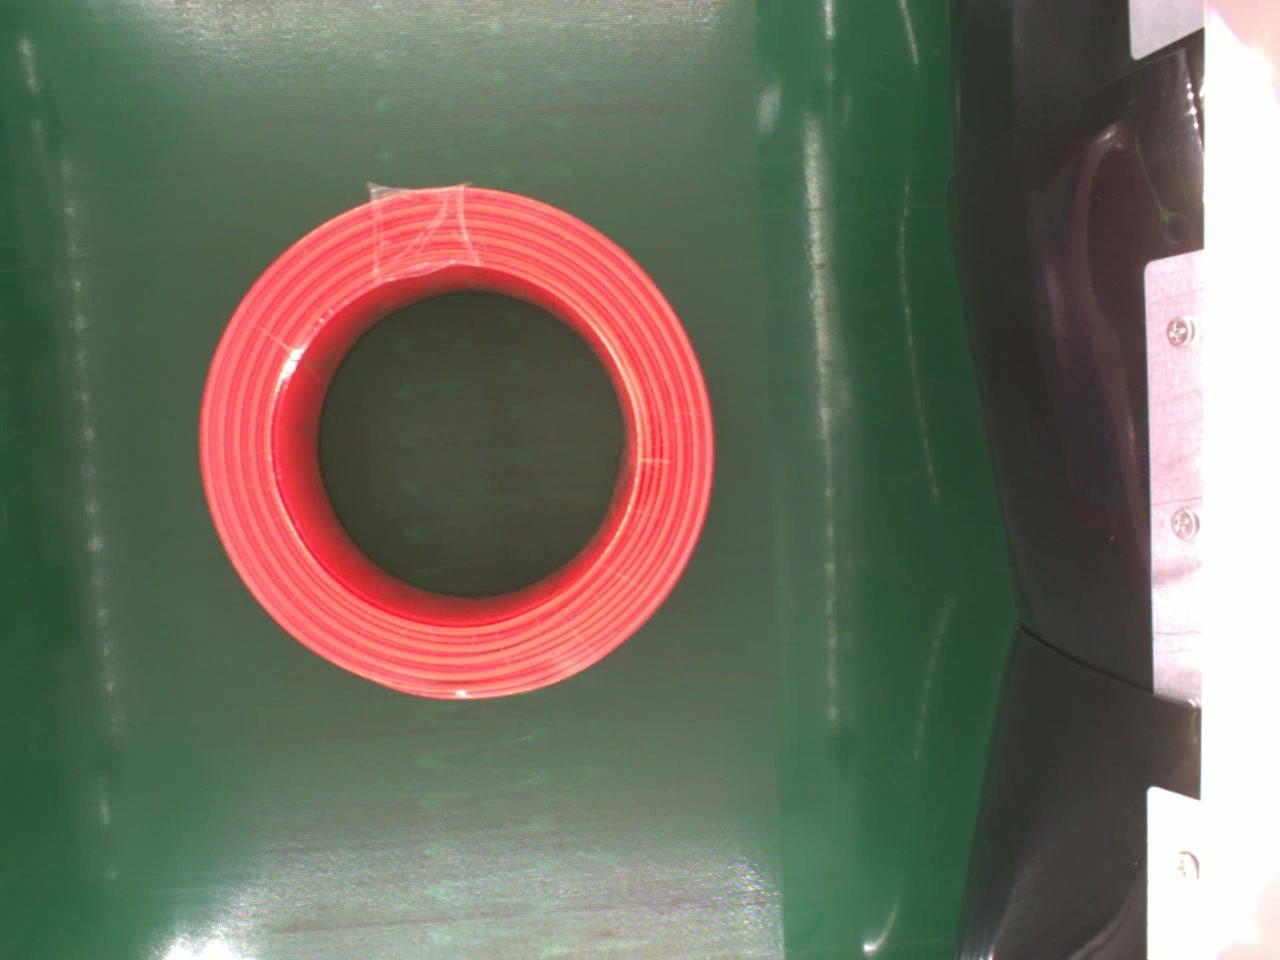red: (197, 178, 726, 702)
